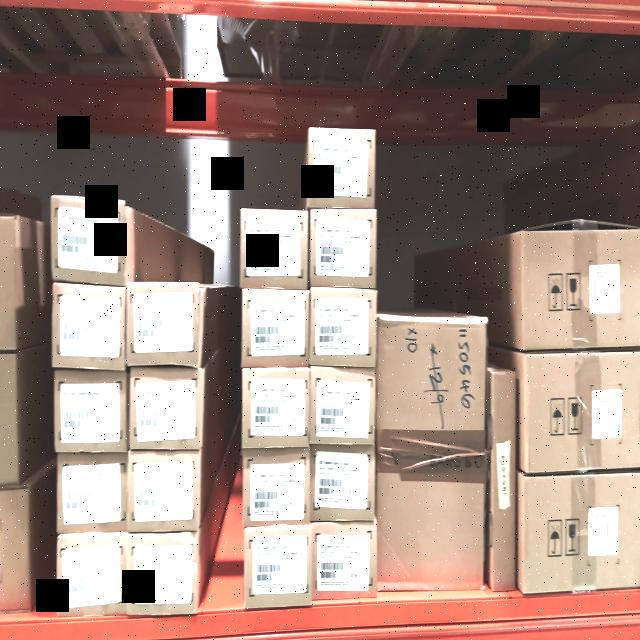box: (378, 321, 486, 589), (524, 233, 640, 348), (526, 358, 640, 466), (524, 480, 640, 584), (54, 286, 126, 370), (58, 536, 128, 617), (52, 207, 130, 279), (128, 287, 201, 363), (129, 453, 199, 530), (128, 535, 196, 613), (132, 370, 200, 448), (56, 375, 126, 449), (58, 456, 128, 530), (242, 290, 308, 368), (240, 212, 308, 286), (309, 131, 375, 207), (247, 530, 312, 607), (243, 374, 309, 446), (244, 452, 310, 524), (492, 373, 514, 588), (311, 213, 375, 285), (311, 292, 375, 362), (312, 448, 374, 520), (312, 370, 374, 442), (314, 524, 376, 594)
